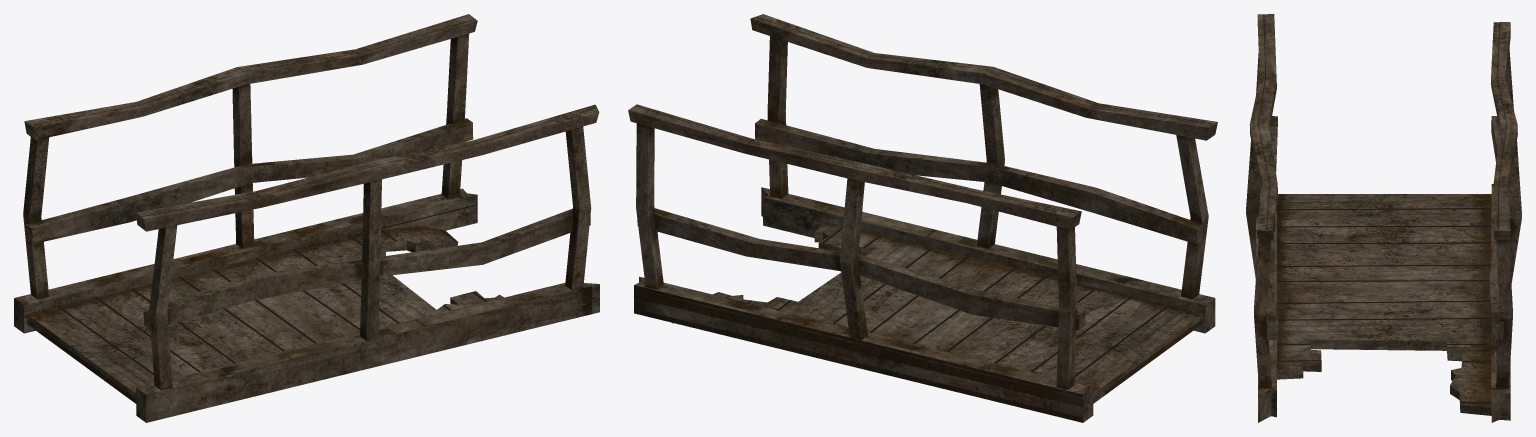
File: bridge2.glb
3 renders of one model, left to right at view 1: azimuth 30°, elevation 25°; view 2: azimuth 150°, elevation 25°; view 3: azimuth 270°, elevation 25°, orthographic. The views are drawn at different scales.
Parts seen in each view (by area): view 1: Cube.004; view 2: Cube.004; view 3: Cube.004.
Boxes of the visible parts, x1,y1,x2,y2 form: Cube.004: [14, 14, 599, 422]; Cube.004: [628, 14, 1217, 422]; Cube.004: [1246, 14, 1521, 422].
Bounding box in the file's own units: 2.03 × 0.9036 × 1.1.
Materials: 1 (1 with a texture image).
